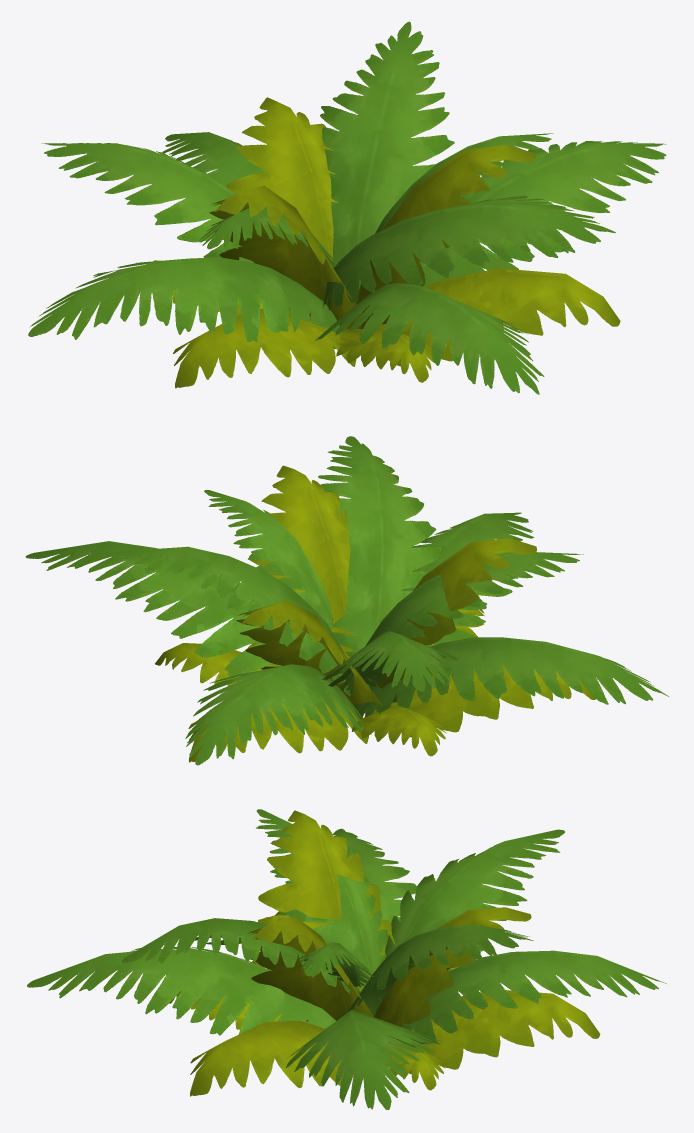
The model's file is fern.glb.
3 renders of one model, top to bottom at view 1: azimuth 30°, elevation 25°; view 2: azimuth 150°, elevation 25°; view 3: azimuth 270°, elevation 25°, orthographic. The views are drawn at different scales.
Visible parts, largest first — view 1: Fern_1, Fern_2; view 2: Fern_1, Fern_2; view 3: Fern_1, Fern_2.
Part boxes in pixels (<box>): Fern_1: <box>28,21,666,394</box>; Fern_2: <box>147,97,620,388</box>; Fern_1: <box>25,436,668,765</box>; Fern_2: <box>155,465,595,762</box>; Fern_1: <box>27,809,666,1109</box>; Fern_2: <box>169,810,600,1096</box>.
Size of what is drawn, in the model's own units: 2.83 by 0.8404 by 2.65.
1 material, 1 textured.
